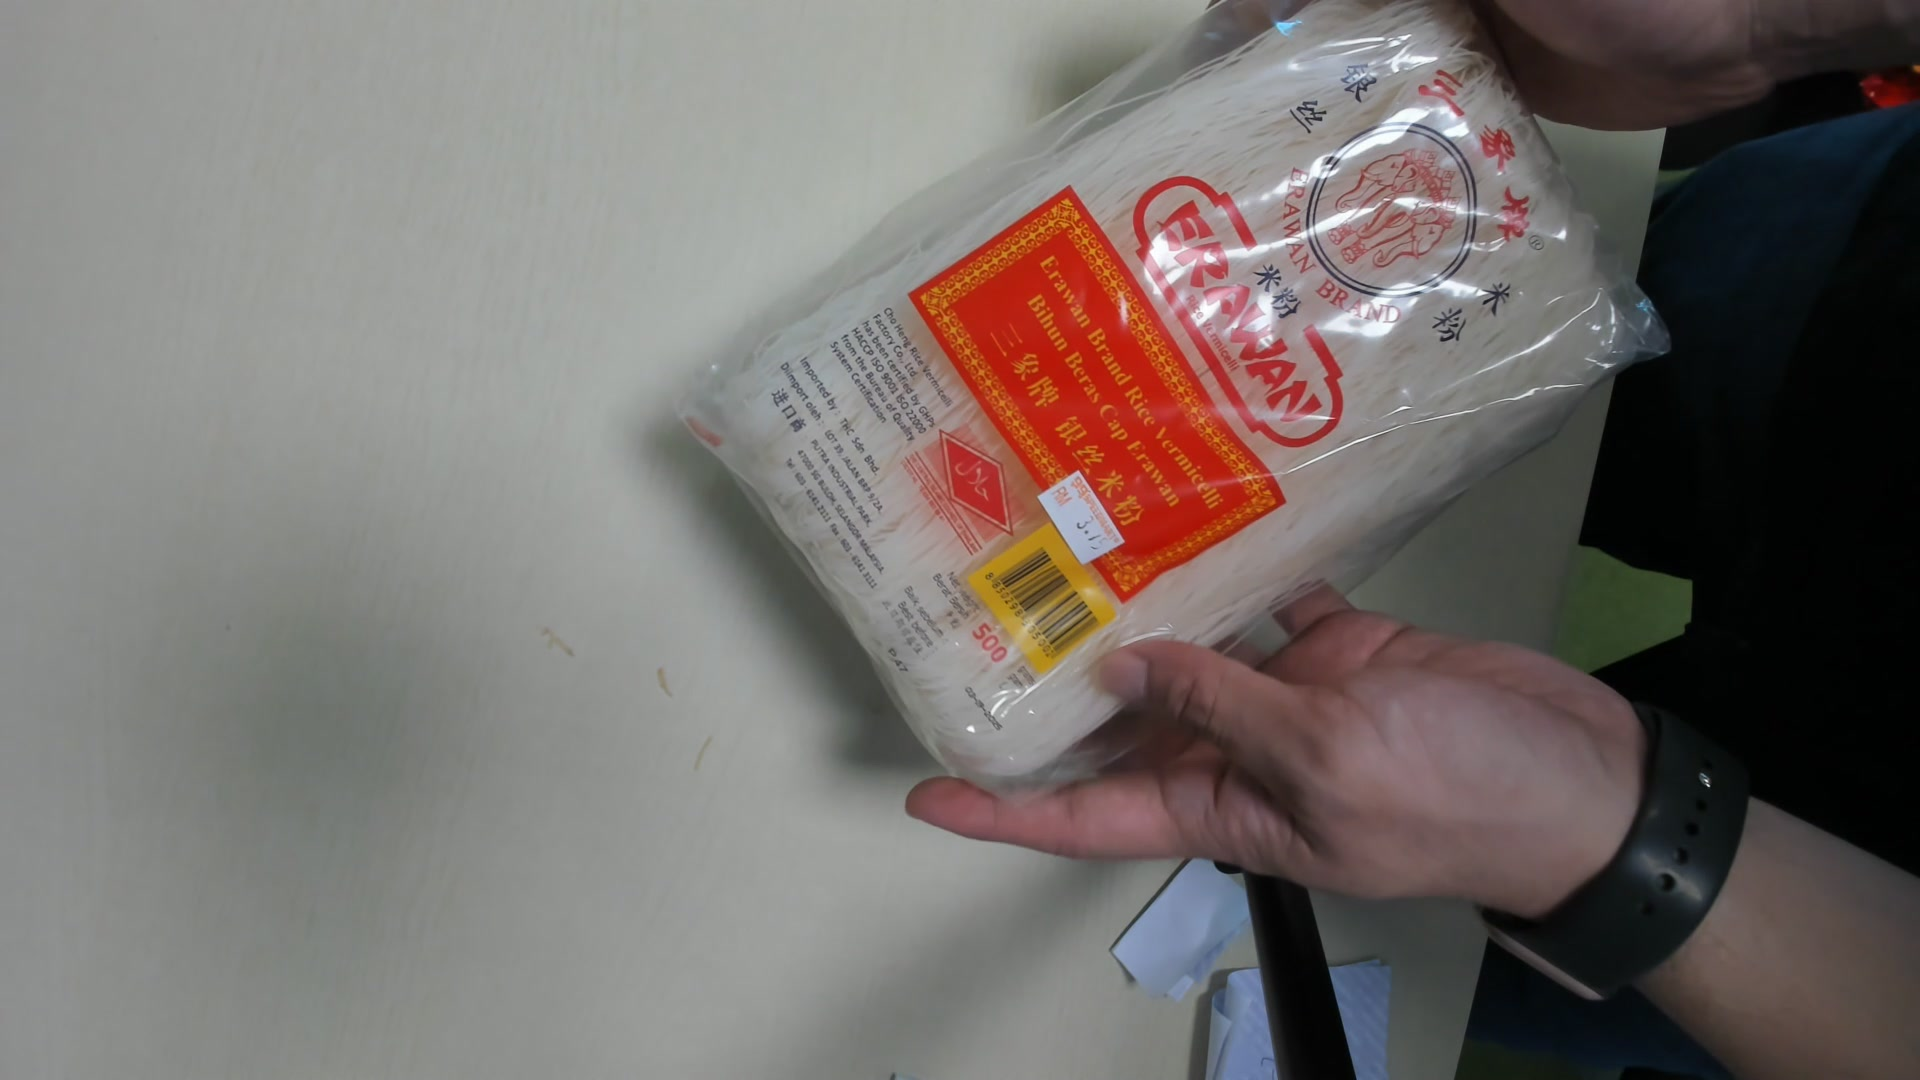BeeHoonVermicelli_500-599g_Halal_NonHealthy: (678, 1, 1656, 791)
